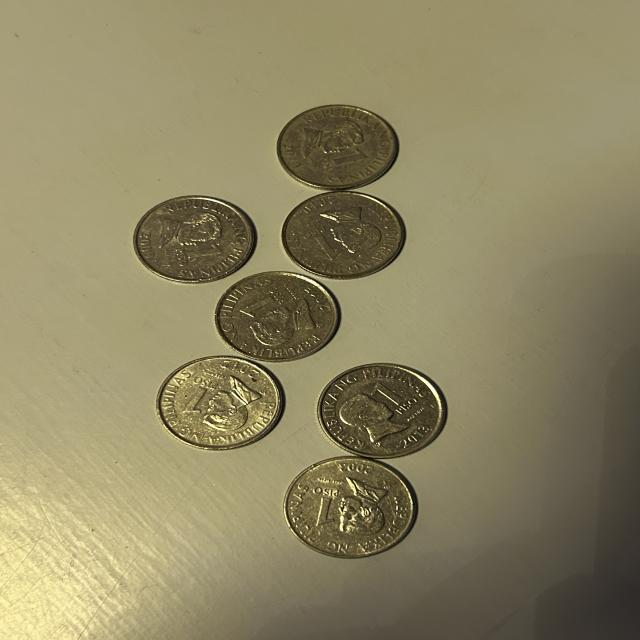1_Old_Front: (296, 218, 348, 268), (367, 382, 422, 421), (237, 284, 290, 319), (311, 476, 344, 530), (179, 373, 211, 420), (321, 144, 371, 174), (164, 246, 230, 268)
